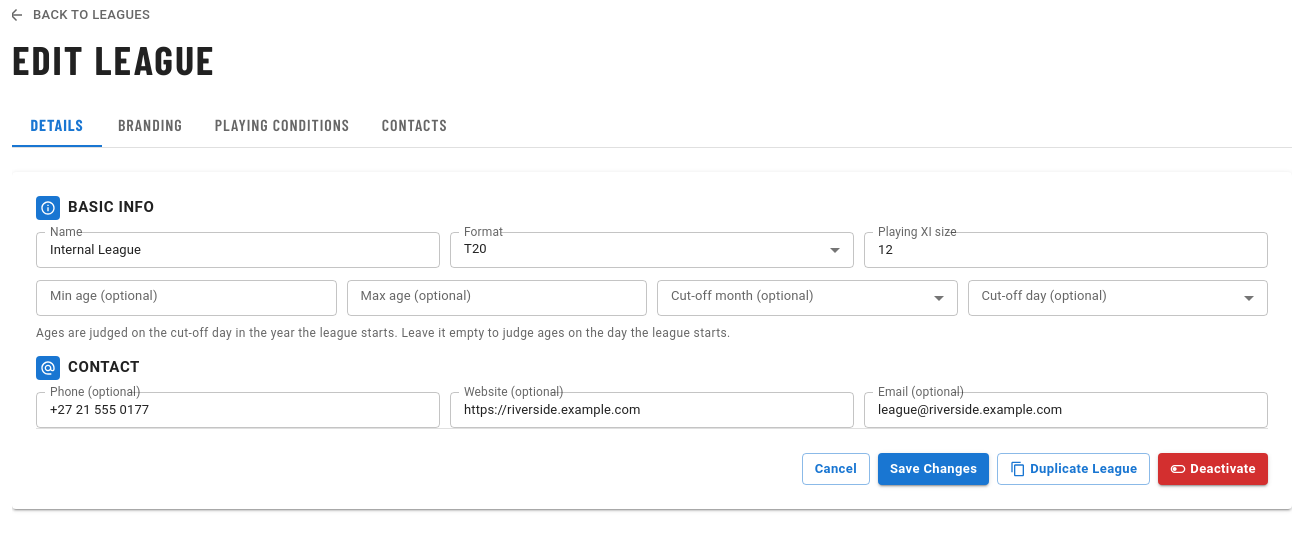
it: LeagueFormPage › edit mode: prefills the form with the fetched league's format/logoUrl/phone/website/email/socialLinks
Expected: the heading "Edit League" is shown, [12, 35, 215, 83]
Expected: the number field labelled "Playing XI size" holds "12", [864, 234, 1268, 266]
Step 1. Click the tab "Branding" → [150, 124], box [118, 115, 183, 134]
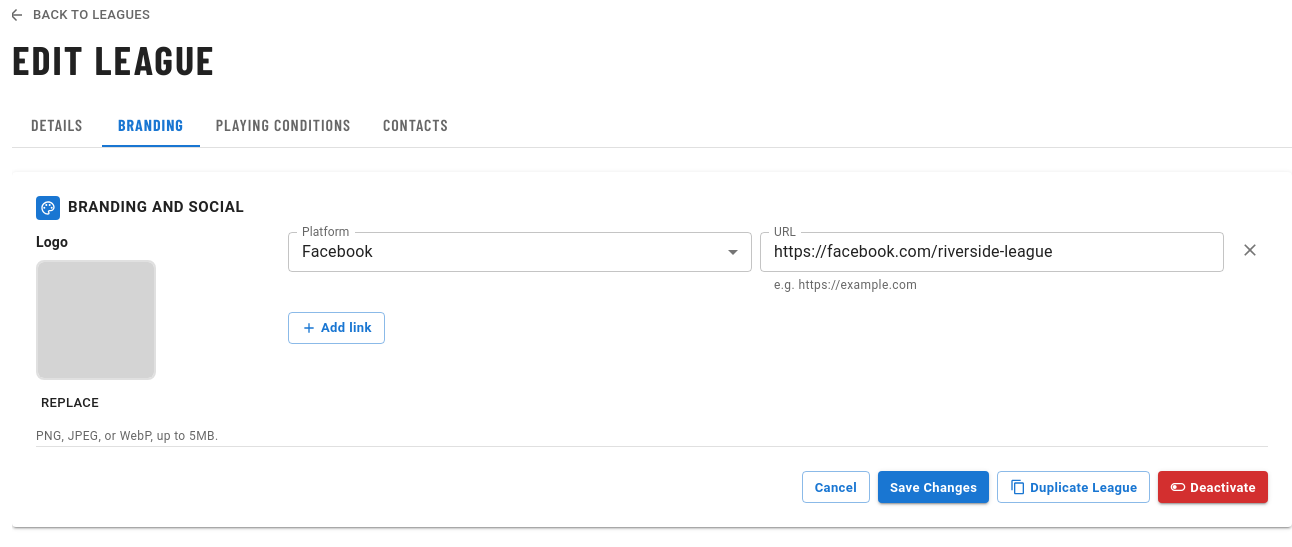
Result: the button "Replace" is shown at [36, 388, 104, 419]
Result: the field showing "https://facebook.com/riverside-league" is shown at [760, 232, 1224, 272]
